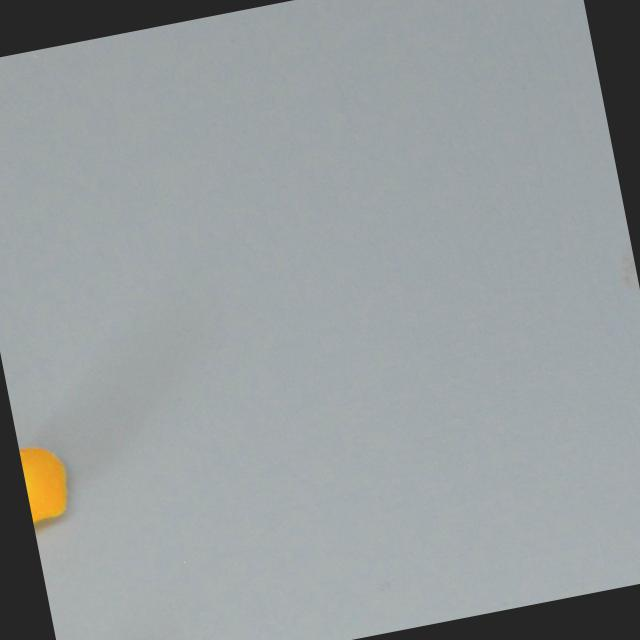dañado: (18, 437, 83, 537)
